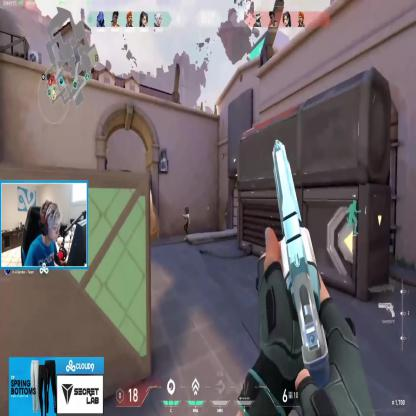enemy: (182, 208, 190, 236)
enemy_head: (186, 209, 188, 214)
